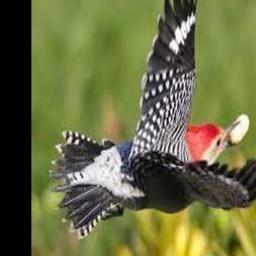Woodpecker: (49, 0, 256, 238)
